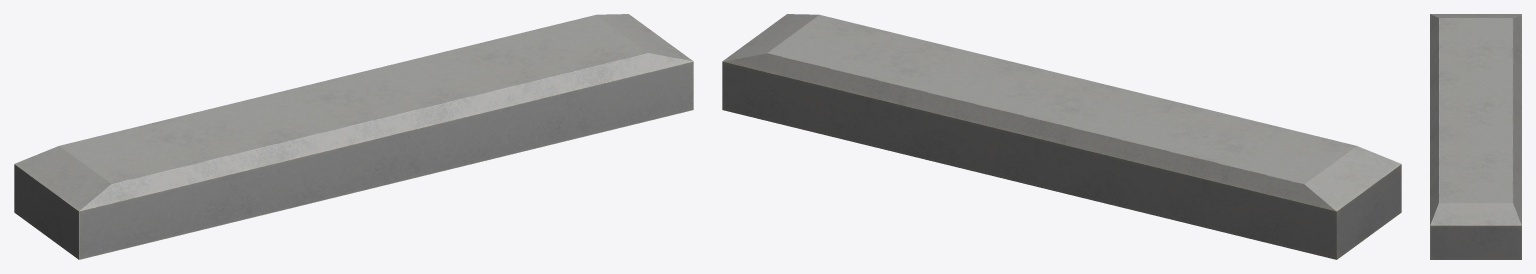
File: SM_Lamp.FBX
The picture shows the model from 3 angles, left to right: view 1: azimuth 30°, elevation 25°; view 2: azimuth 150°, elevation 25°; view 3: azimuth 270°, elevation 25°; orthographic projection. The views are drawn at different scales.
Visible parts, largest first — view 1: SM_Lamp; view 2: SM_Lamp; view 3: SM_Lamp.
Part boxes in pixels (x1,y1,x2,y2): SM_Lamp: (14, 14, 693, 259); SM_Lamp: (722, 14, 1401, 259); SM_Lamp: (1430, 14, 1521, 259).
Size of the model in its own units: 154 by 28.24 by 14.81.
